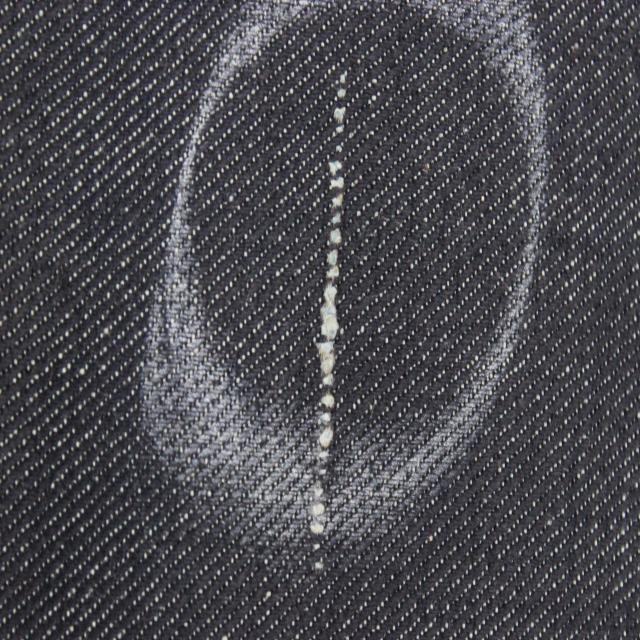pulled_or_thick_thread: (310, 70, 354, 567)
